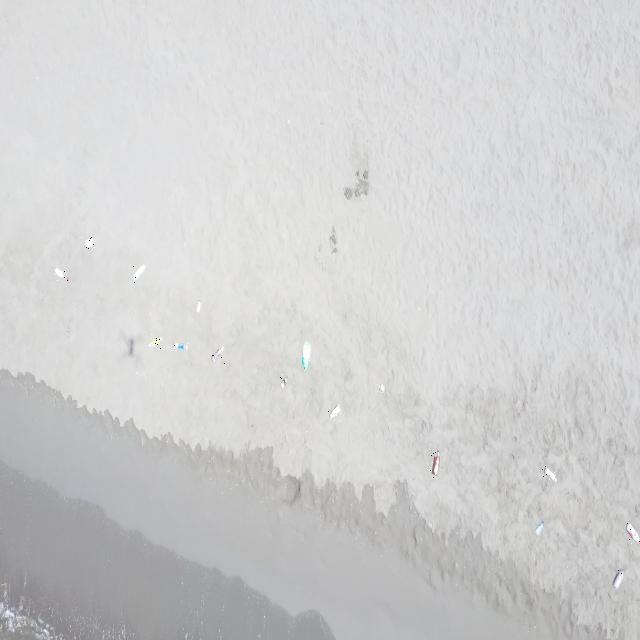Garbage: (344, 169, 367, 199), (120, 331, 139, 360), (121, 335, 134, 355), (301, 340, 310, 368), (627, 523, 639, 542), (212, 346, 224, 364), (132, 264, 144, 281), (612, 568, 622, 588), (543, 466, 555, 482), (432, 449, 439, 476), (328, 227, 335, 252), (55, 267, 68, 280), (328, 404, 340, 417), (212, 346, 223, 360), (148, 336, 160, 347), (535, 520, 543, 535), (173, 342, 187, 350), (84, 236, 94, 247), (280, 375, 287, 387), (55, 267, 64, 276), (377, 384, 384, 392), (196, 300, 200, 312)
